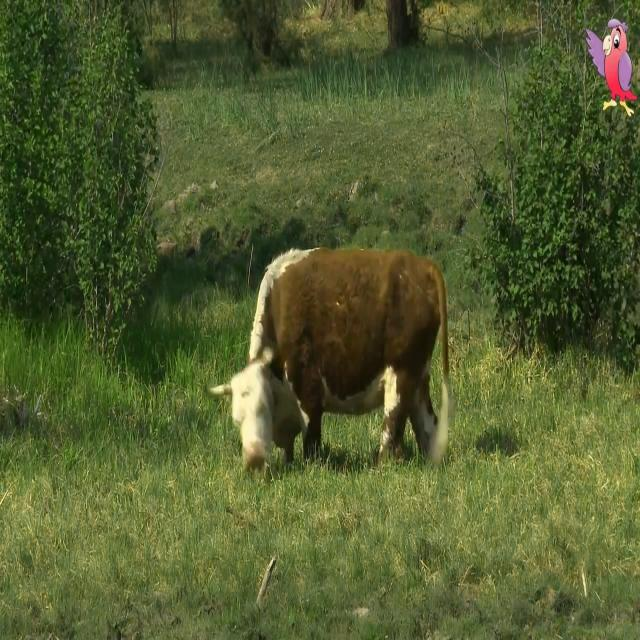cow: (211, 248, 449, 469)
